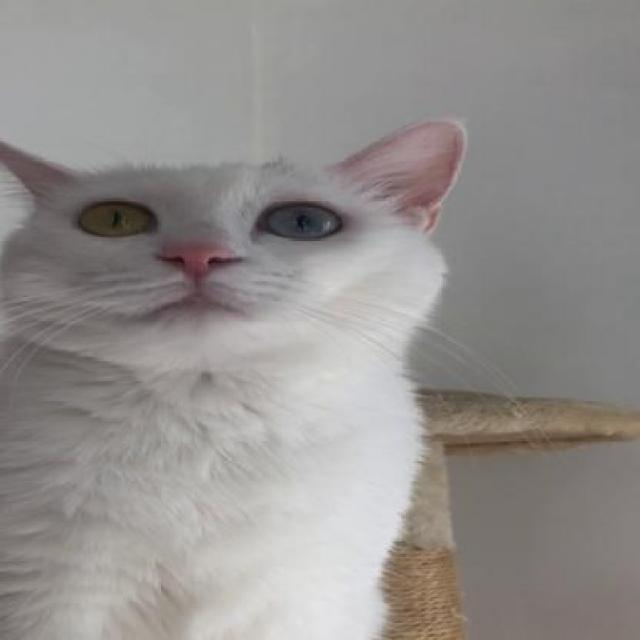cat-face: (4, 119, 456, 363)
